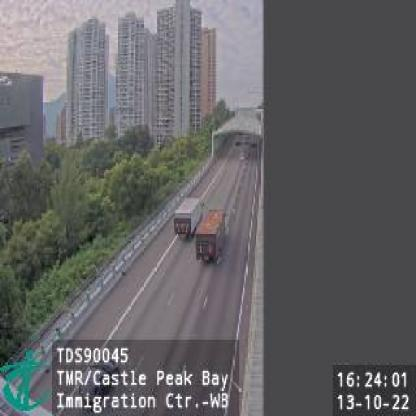Truck: (198, 208, 227, 266), (172, 196, 204, 239)
